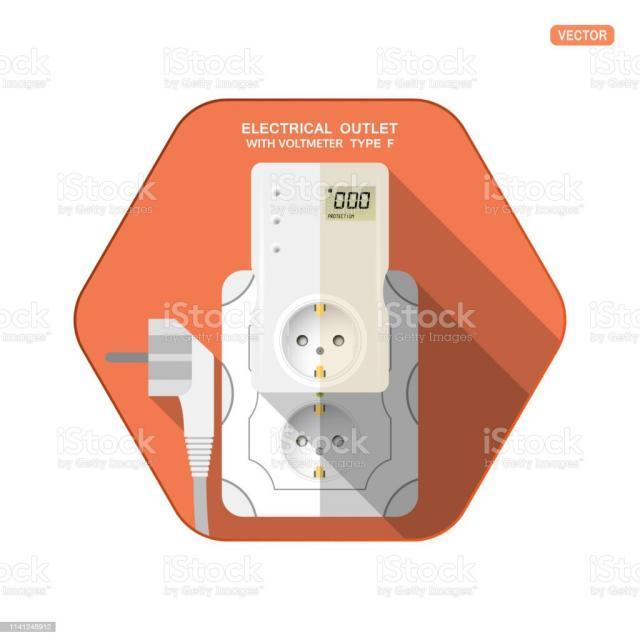typeb: (262, 293, 374, 390), (269, 402, 372, 501)
